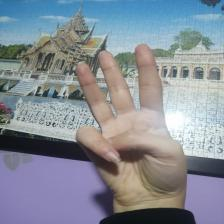five: (72, 43, 190, 210)
